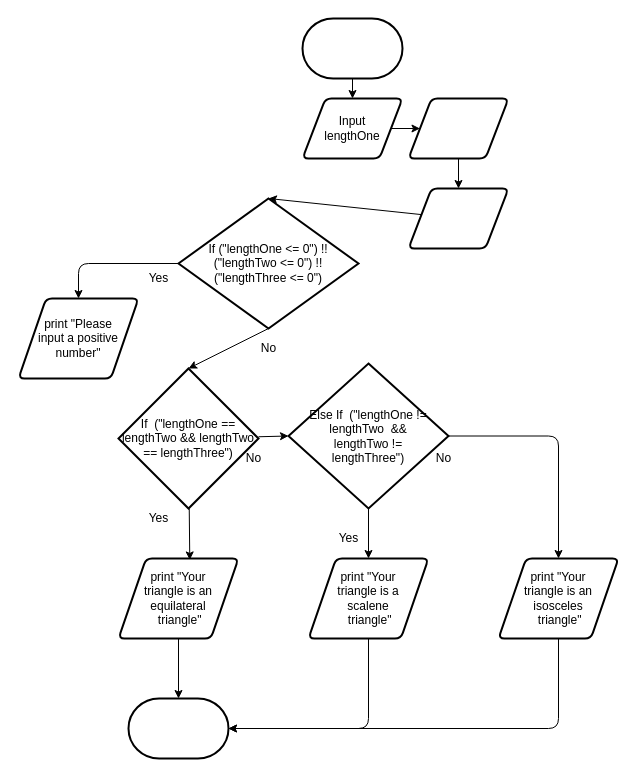
The diagram is 636 pixels wide and 776 high, and some of its shapes have lost their labels. Each missing label, with the centre of its shape:
"Input lengthThree" belongs at (458,218).
"Input lengthTwo" belongs at (458,128).
"Start" belongs at (352,48).
"Stop" belongs at (178,728).
